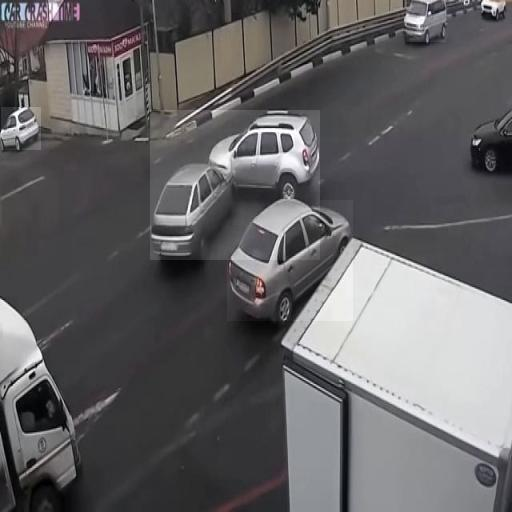小汽车: (227, 200, 353, 321), (2, 107, 42, 150), (406, 2, 446, 42)
小汽车撞小汽车: (150, 110, 320, 260)
